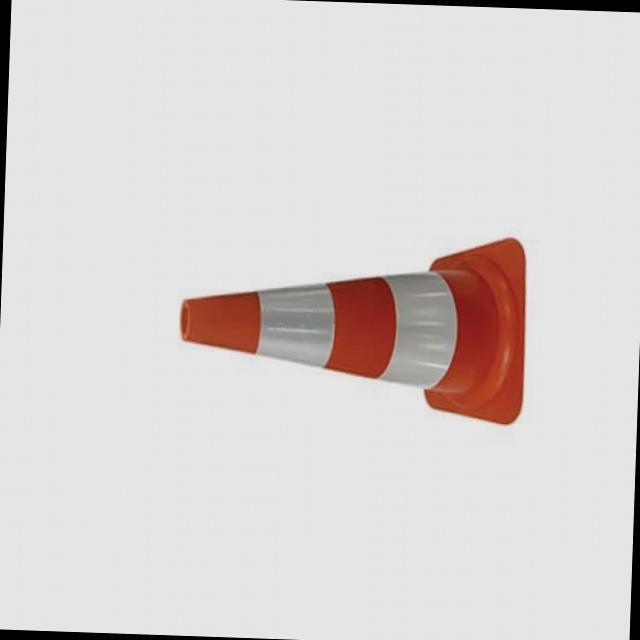cone: (170, 214, 538, 442)
